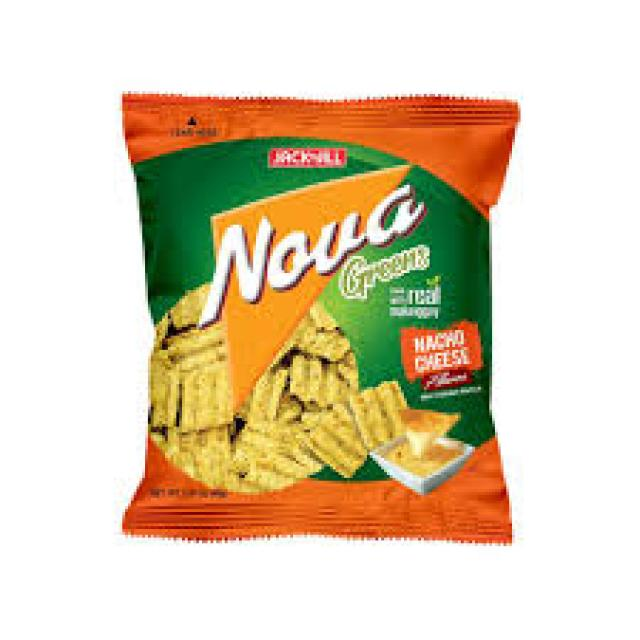junkfood wrapper: (122, 95, 518, 543)
